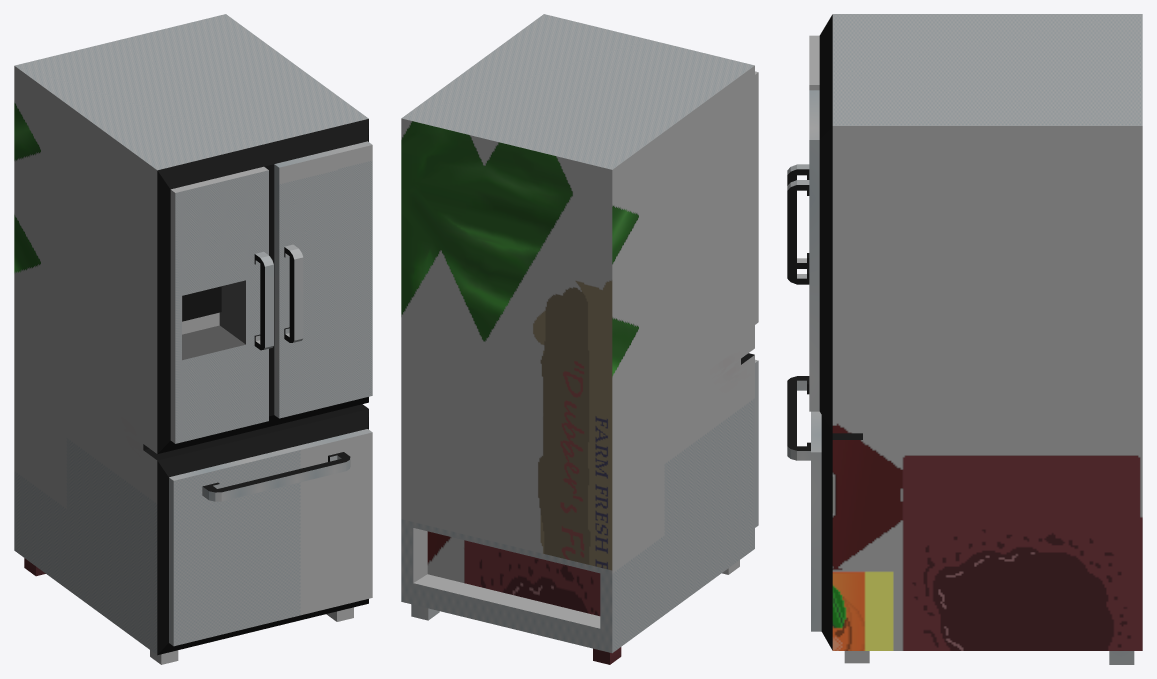
The model's file is fridge 13.fbx.
3 renders of one model, left to right at view 1: azimuth 30°, elevation 25°; view 2: azimuth 150°, elevation 25°; view 3: azimuth 270°, elevation 25°, orthographic. The views are drawn at different scales.
Parts seen in each view (by area): view 1: Cube; view 2: Cube; view 3: Cube.
Part boxes in pixels (bbox=[...]): Cube: bbox=[14, 14, 372, 664]; Cube: bbox=[401, 14, 758, 664]; Cube: bbox=[787, 14, 1142, 664].
Bounding box in the file's own units: 171 × 386 × 229.
